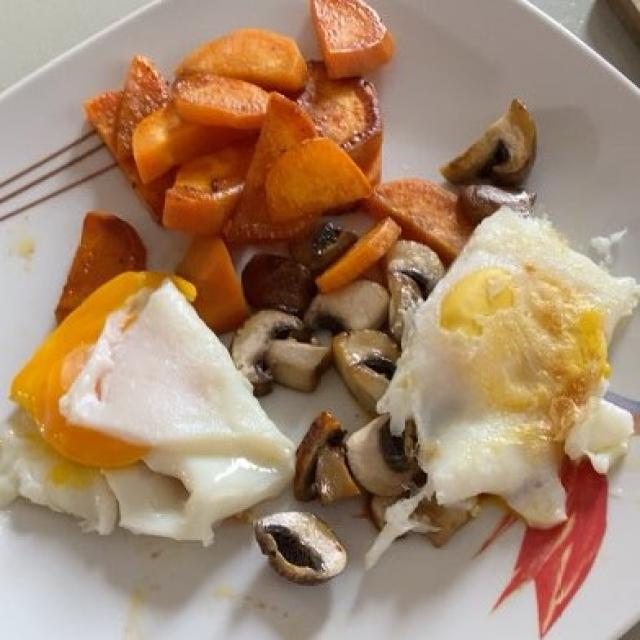egg: (6, 197, 633, 545)
mushroom: (223, 101, 534, 584)
